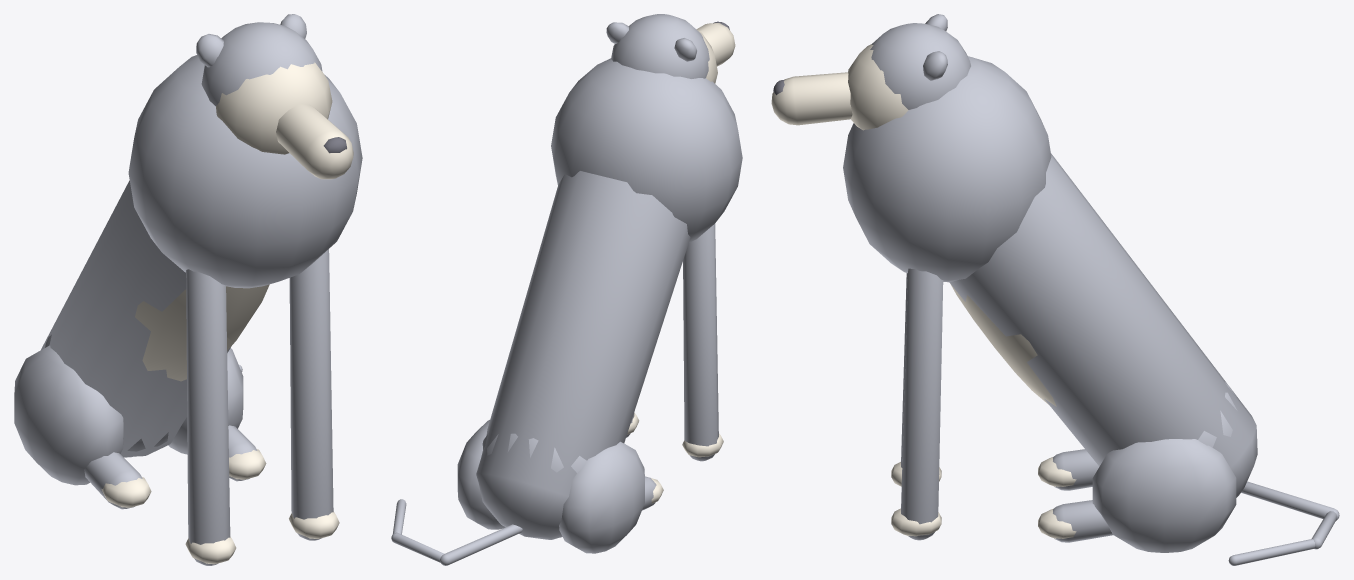
File: companion-animals-and-pet-home-dog-greyhound-sit-0f5e7a09__20592.glb
3 views of the same model, side by side, from view 1: azimuth 30°, elevation 25°; view 2: azimuth 150°, elevation 25°; view 3: azimuth 270°, elevation 25° (orthographic). The views are drawn at different scales.
Visible parts, largest first — view 1: dog-greyhound-sit; view 2: dog-greyhound-sit; view 3: dog-greyhound-sit.
Boxes of the visible parts, x1,y1,x2,y2 form: dog-greyhound-sit: [14, 14, 362, 565]; dog-greyhound-sit: [391, 14, 742, 565]; dog-greyhound-sit: [771, 14, 1339, 565].
Bounding box in the file's own units: 0.3317 × 0.6676 × 0.6933.
